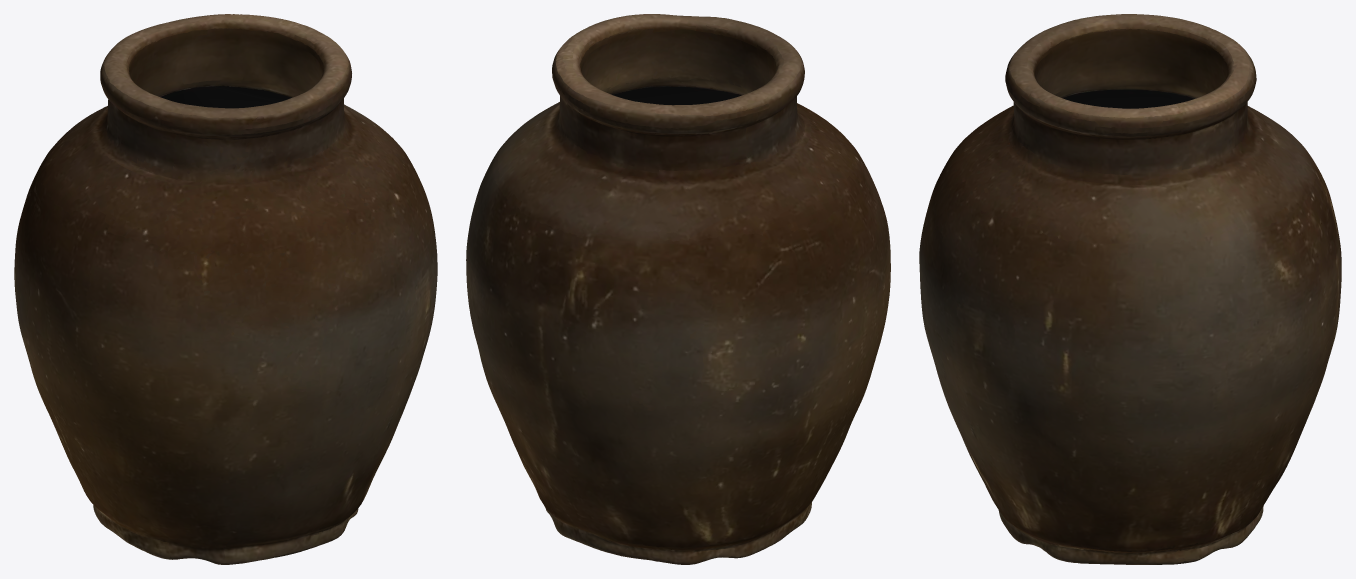
File: 07_tan.glb
3 renders of one model, left to right at view 1: azimuth 30°, elevation 25°; view 2: azimuth 150°, elevation 25°; view 3: azimuth 270°, elevation 25°, orthographic.
Visible parts, largest first — view 1: geometry_0; view 2: geometry_0; view 3: geometry_0.
Boxes of the visible parts, <box> form: geometry_0: <box>14,14,437,564</box>; geometry_0: <box>466,14,890,564</box>; geometry_0: <box>919,14,1341,564</box>.
Bounding box in the file's own units: 0.2717 × 0.32 × 0.2713.
Materials: 1 (1 with a texture image).
